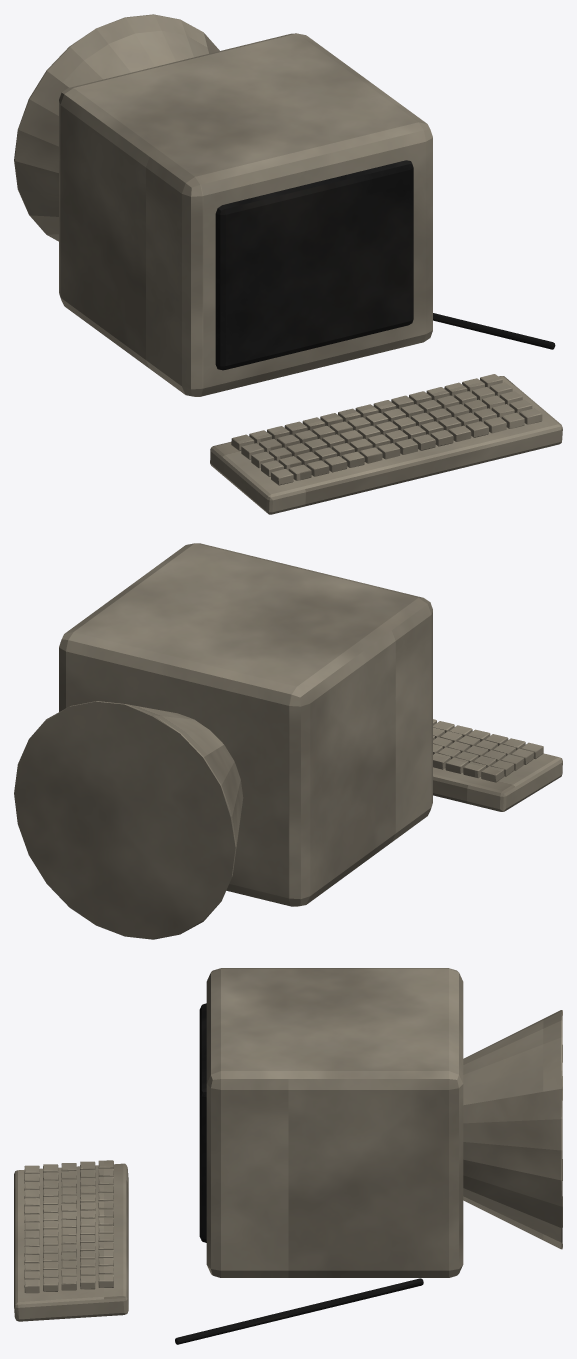
The model's file is F18_crt_monitor_keyboard.glb.
3 renders of one model, top to bottom at view 1: azimuth 30°, elevation 25°; view 2: azimuth 150°, elevation 25°; view 3: azimuth 270°, elevation 25°, orthographic. The views are drawn at different scales.
Visible parts, largest first — view 1: F18_crt_monitor_keyboard; view 2: F18_crt_monitor_keyboard; view 3: F18_crt_monitor_keyboard.
Boxes of the visible parts, box(x1,y1,x2,y2) form: F18_crt_monitor_keyboard: box(14, 14, 562, 514); F18_crt_monitor_keyboard: box(14, 543, 562, 939); F18_crt_monitor_keyboard: box(14, 968, 562, 1344).
Bounding box in the file's own units: 0.3687 × 0.237 × 0.5.
Materials: 3 (3 with a texture image).
